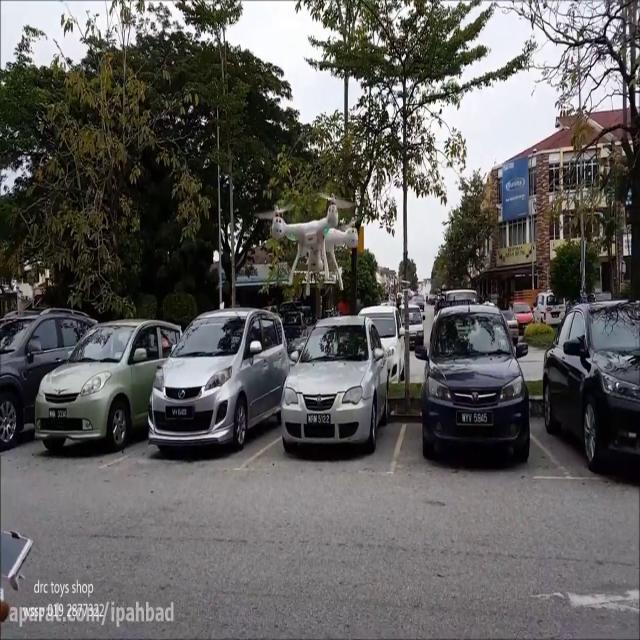drone: (268, 194, 358, 292)
